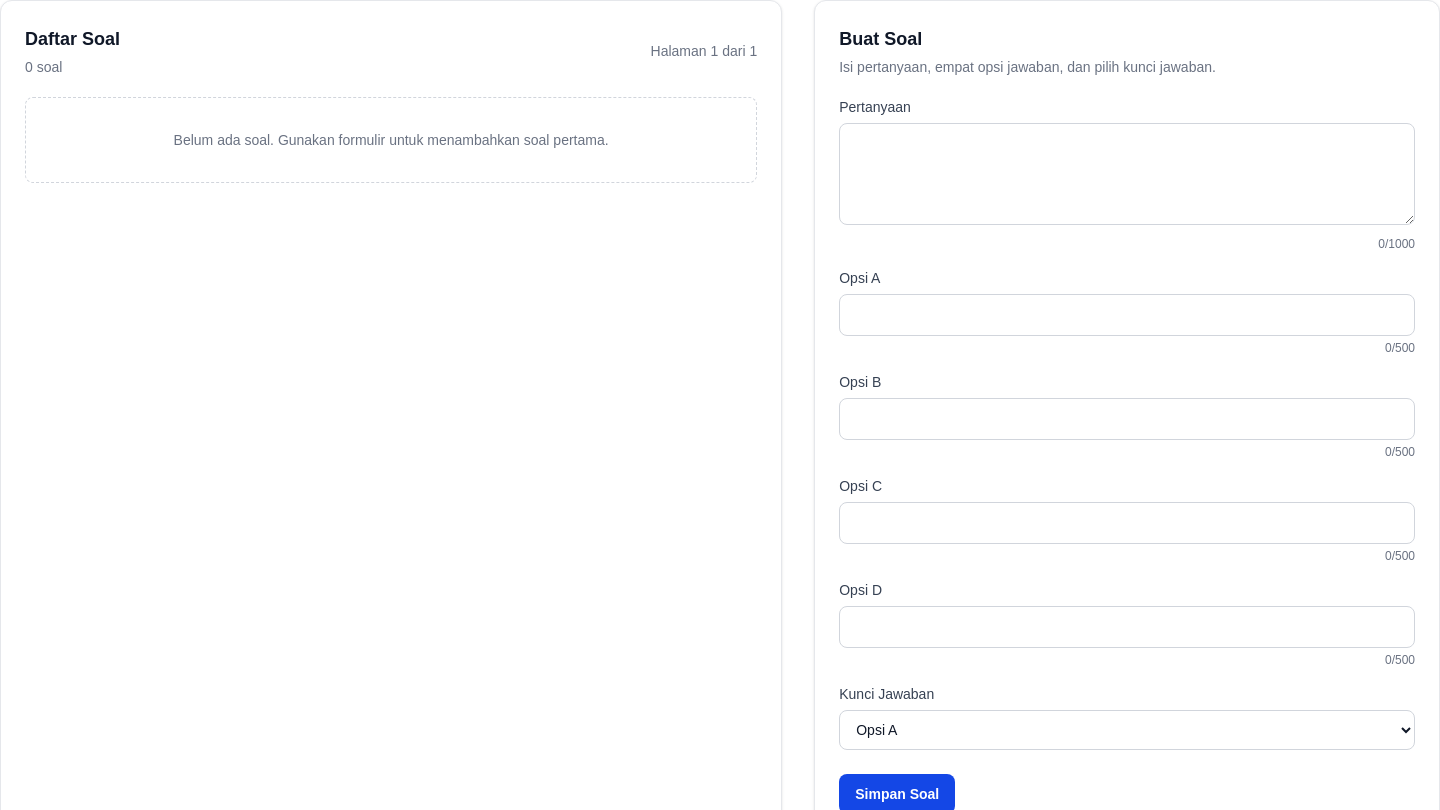
Scenario: QuestionBank › creates a question and displays the saved confirmation
Type "Berapa hasil 2 + 2?" into the text box labelled "Pertanyaan" at (1127, 174), box [839,123,1415,225]
Type "3" into the field labelled "Opsi A" at (1127, 315), box [839,294,1415,336]
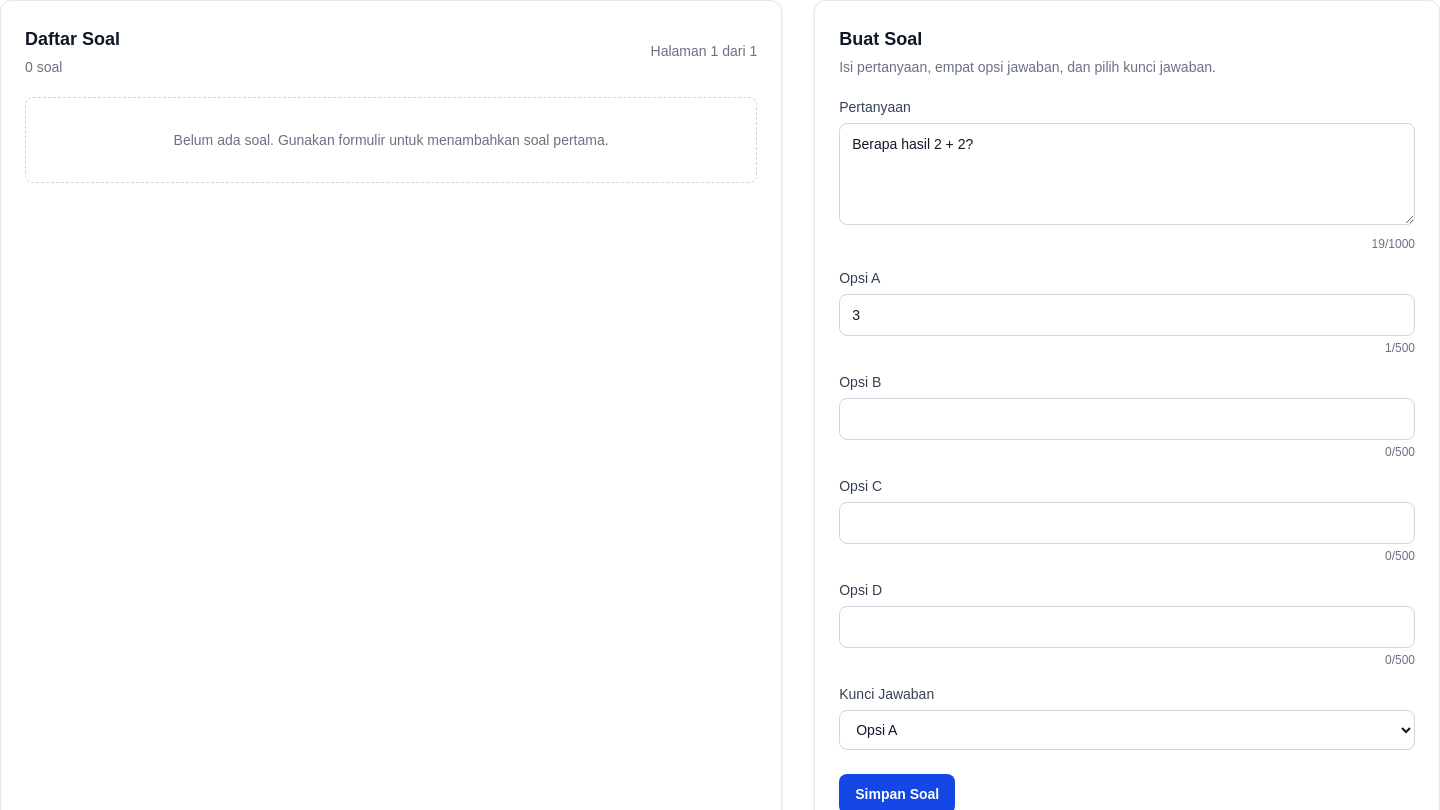
Type "4" into the field labelled "Opsi B" at (1127, 419), box [839,398,1415,440]
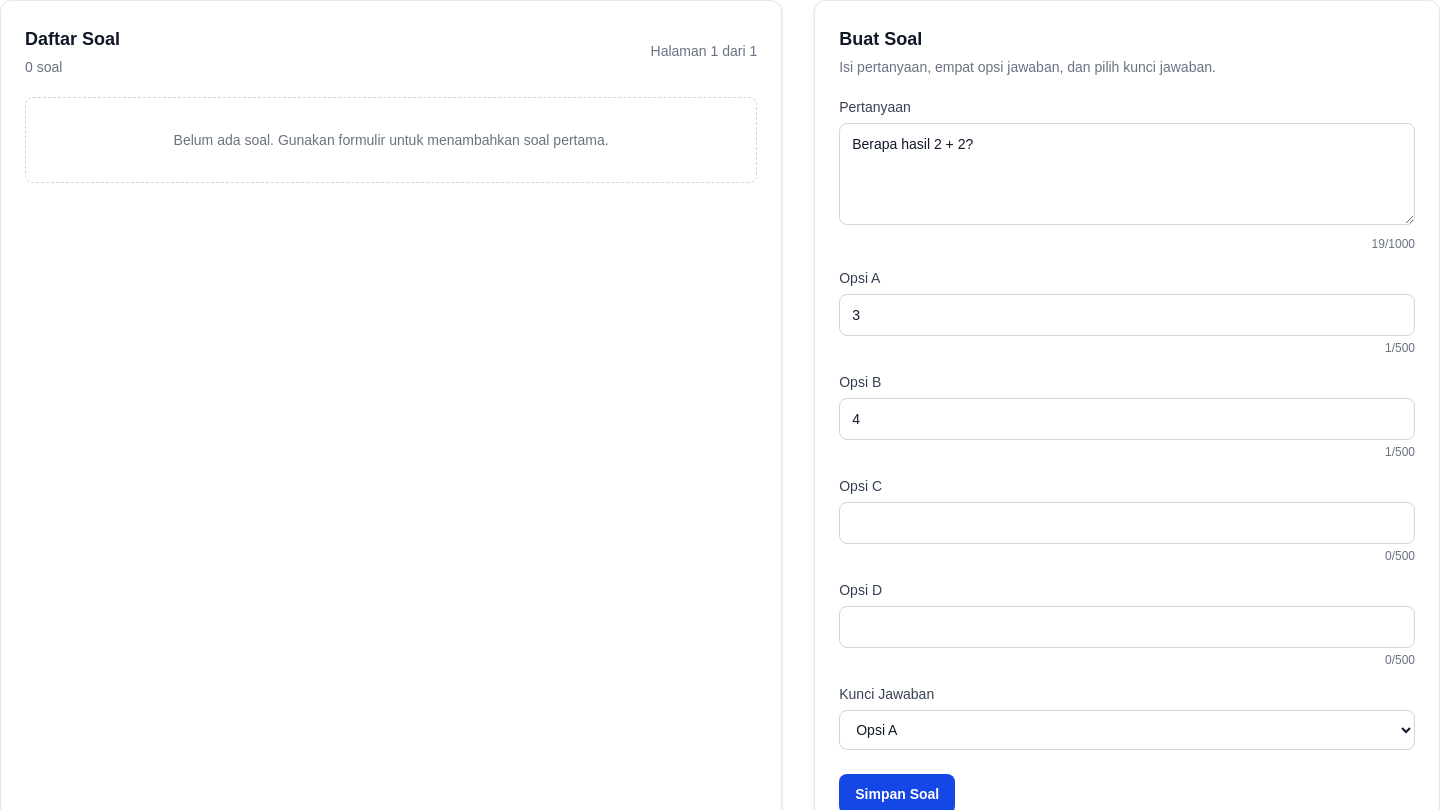
Type "5" into the field labelled "Opsi C" at (1127, 523), box [839,502,1415,544]
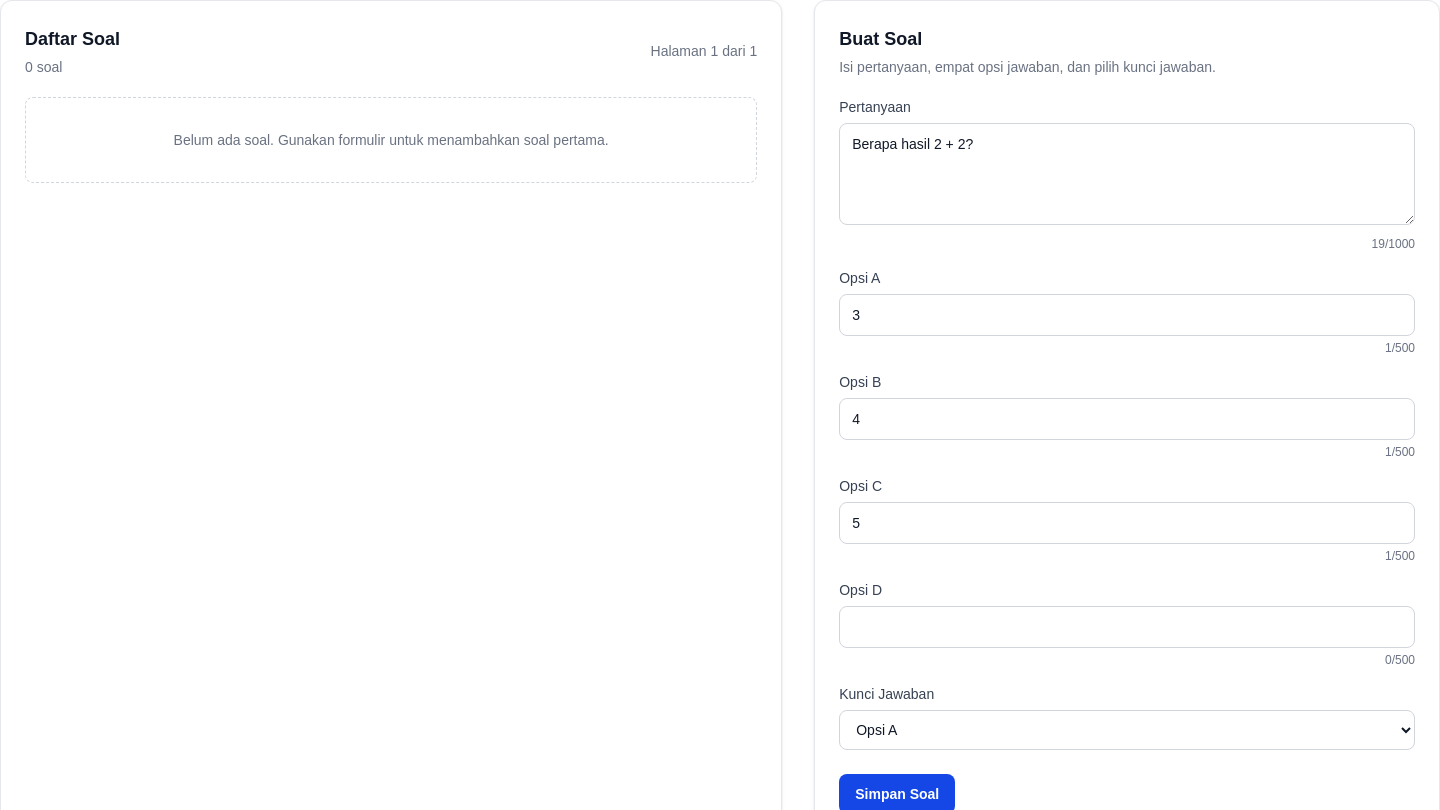
Type "6" into the field labelled "Opsi D" at (1127, 627), box [839,606,1415,648]
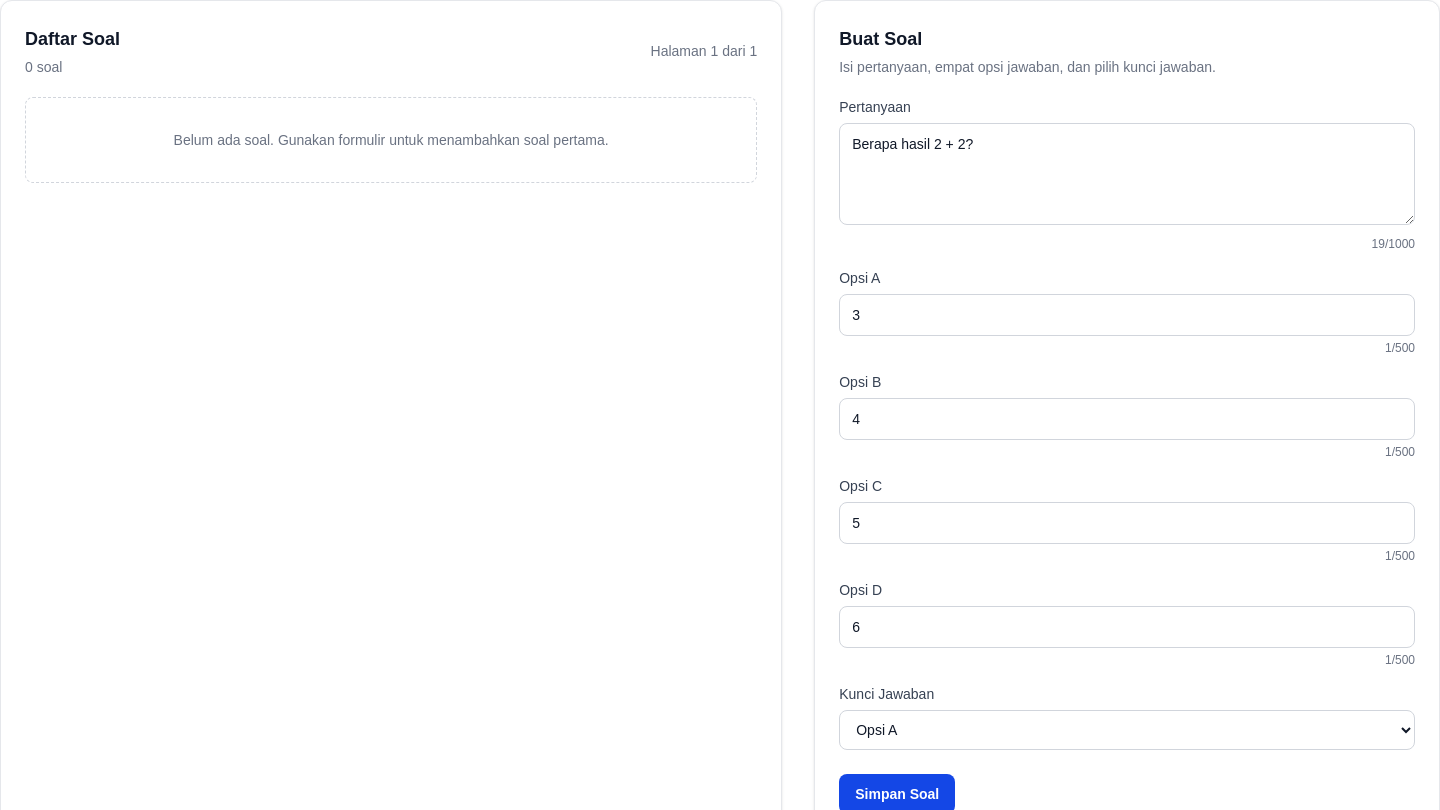
Select "Opsi B" in the dropdown labelled "Kunci Jawaban" at (1127, 730), box [839,710,1415,750]
(page scrolled)
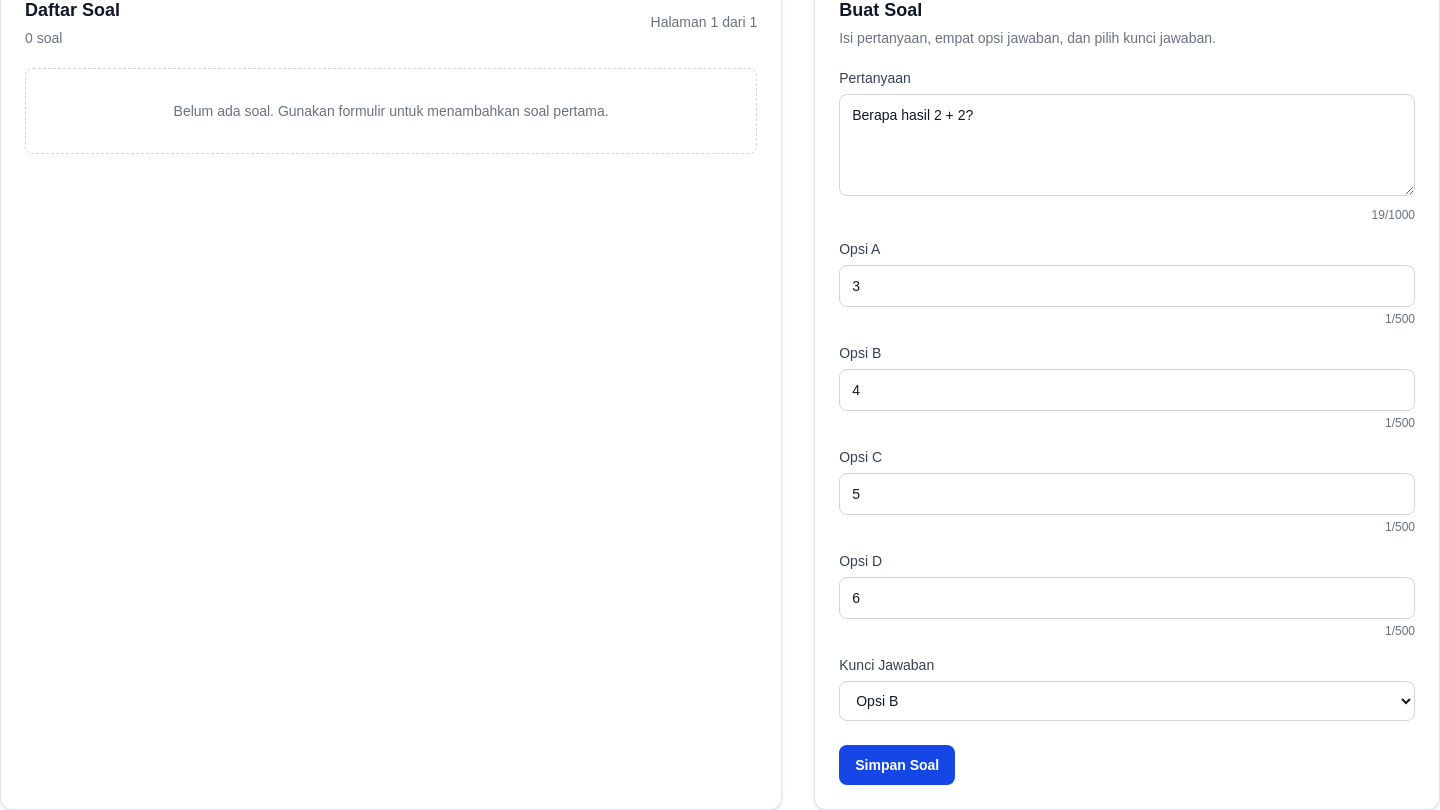
Click the button "Simpan Soal" at (897, 765), box [839,745,955,785]
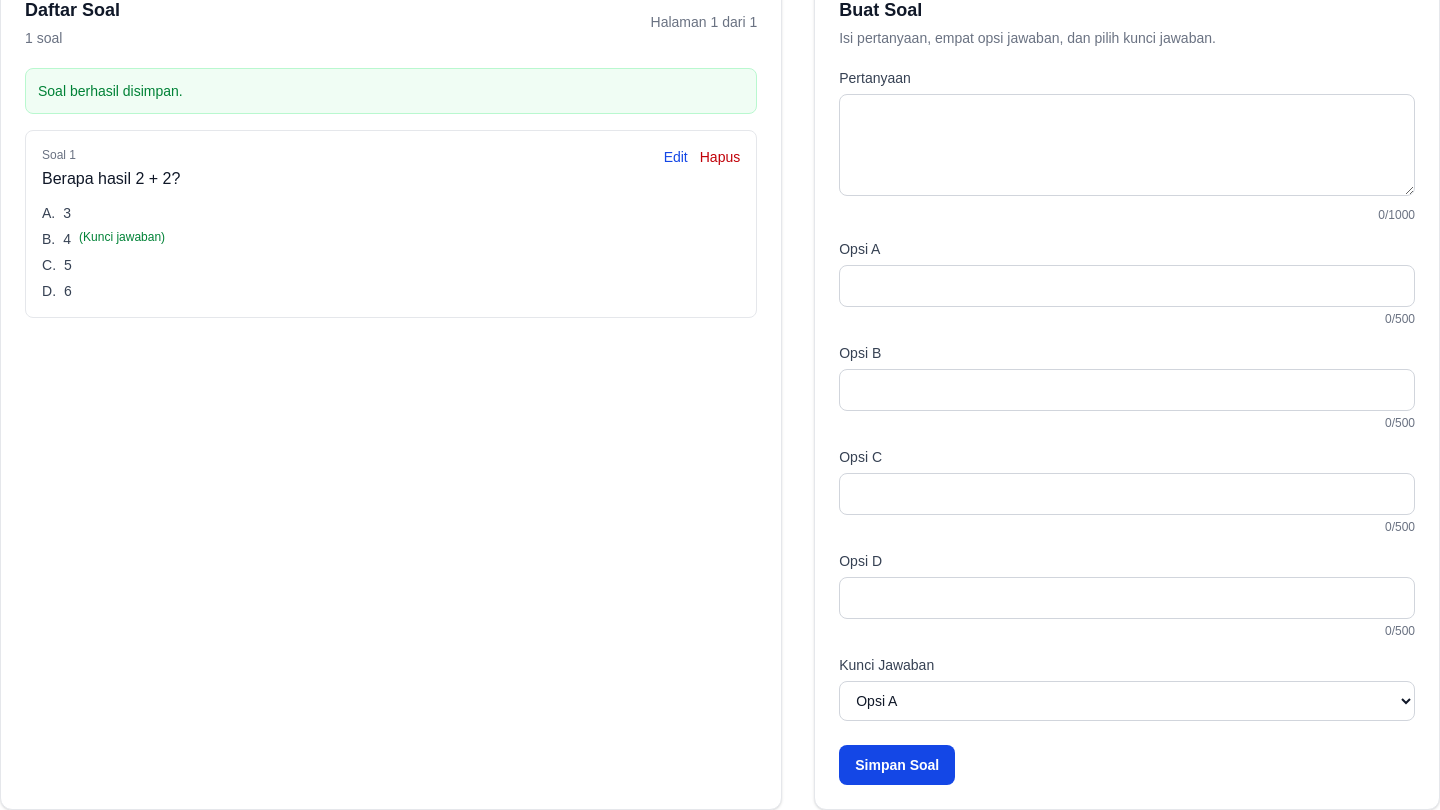
Now the message reads "Soal berhasil disimpan.", box [38,83,183,99]
Now the text "Berapa hasil 2 + 2?" is shown, box [42,167,180,191]
